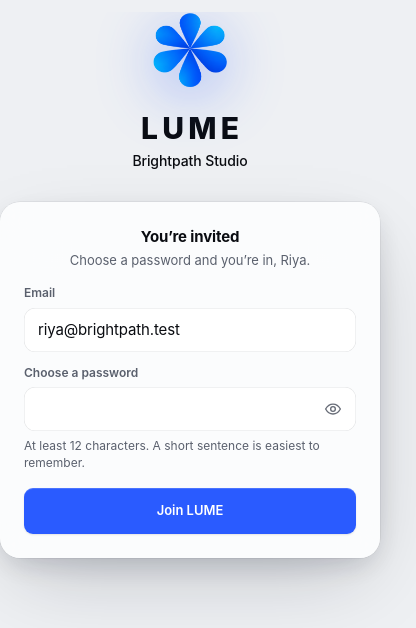
Test: AcceptInvite › explains a refused password and lets the person try again
In the password field labelled "Choose a password": (190, 409) x1=24 y1=387 x2=356 y2=431, type "password123456"
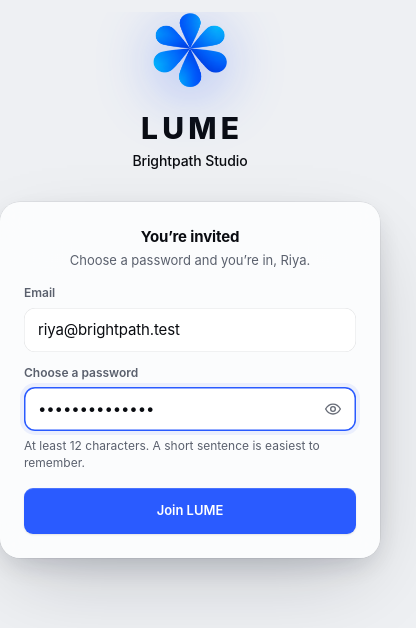
Click the button "Join LUME": click(190, 511) x1=24 y1=488 x2=356 y2=534
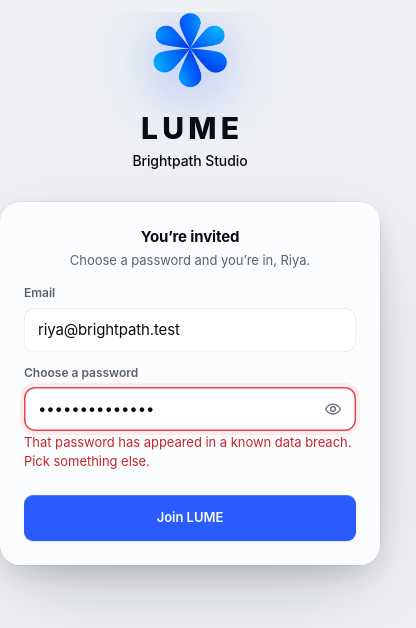
Expected: the password field labelled "Choose a password" is enabled, x1=24 y1=387 x2=356 y2=431
Now the message shows "known data breach", box x1=24 y1=434 x2=351 y2=469
